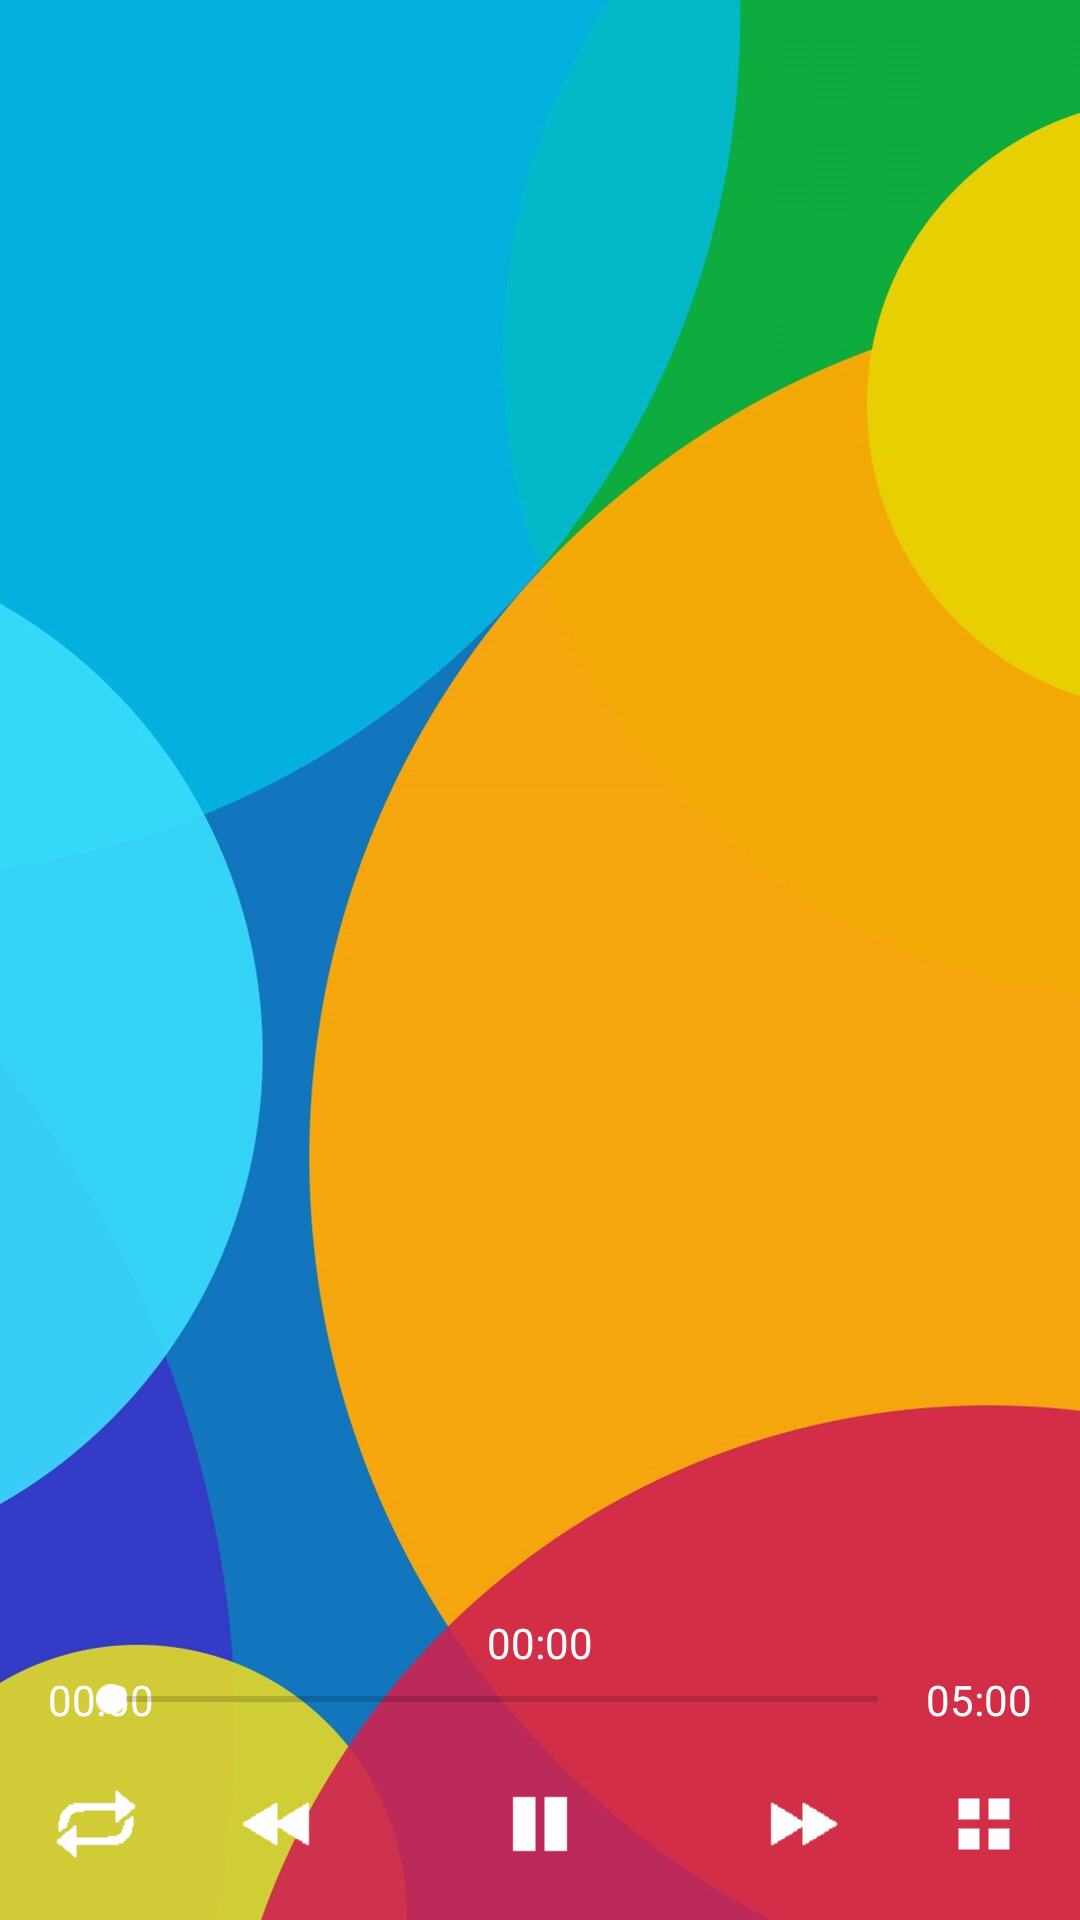

Named icons in this screenshot (1080×1920) and their bounding boxes, (x1, y1, x2, y2):
list: (958, 1798, 1010, 1850)
next: (770, 1802, 838, 1846)
repeat nomal: (56, 1790, 136, 1858)
